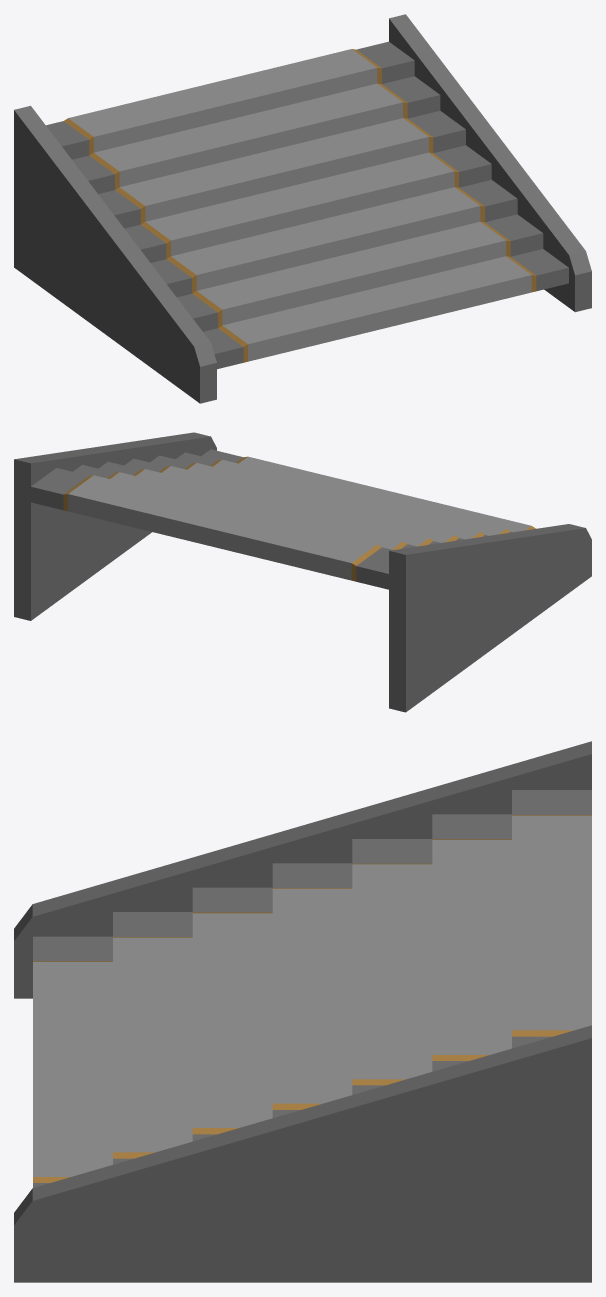
Rendered from staircase.glb.
3 views of the same model, one above another, from view 1: azimuth 30°, elevation 25°; view 2: azimuth 150°, elevation 25°; view 3: azimuth 270°, elevation 25° (orthographic). The views are drawn at different scales.
Parts seen in each view (by area): view 1: Staircase; view 2: Staircase; view 3: Staircase.
Boxes of the visible parts, box(x1,y1,x2,y2) form: Staircase: box(14, 14, 591, 403); Staircase: box(14, 432, 591, 712); Staircase: box(14, 741, 591, 1282).
Size of the model in its own units: 3.78 by 1.45 by 3.11.
